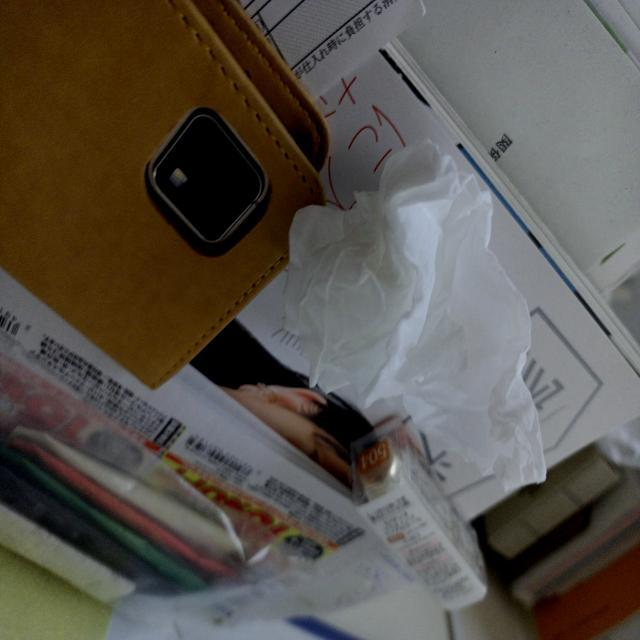Paper: (277, 128, 561, 488)
